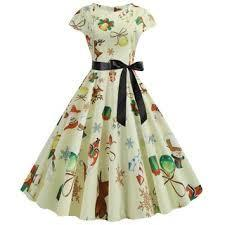dress: (18, 1, 206, 221)
